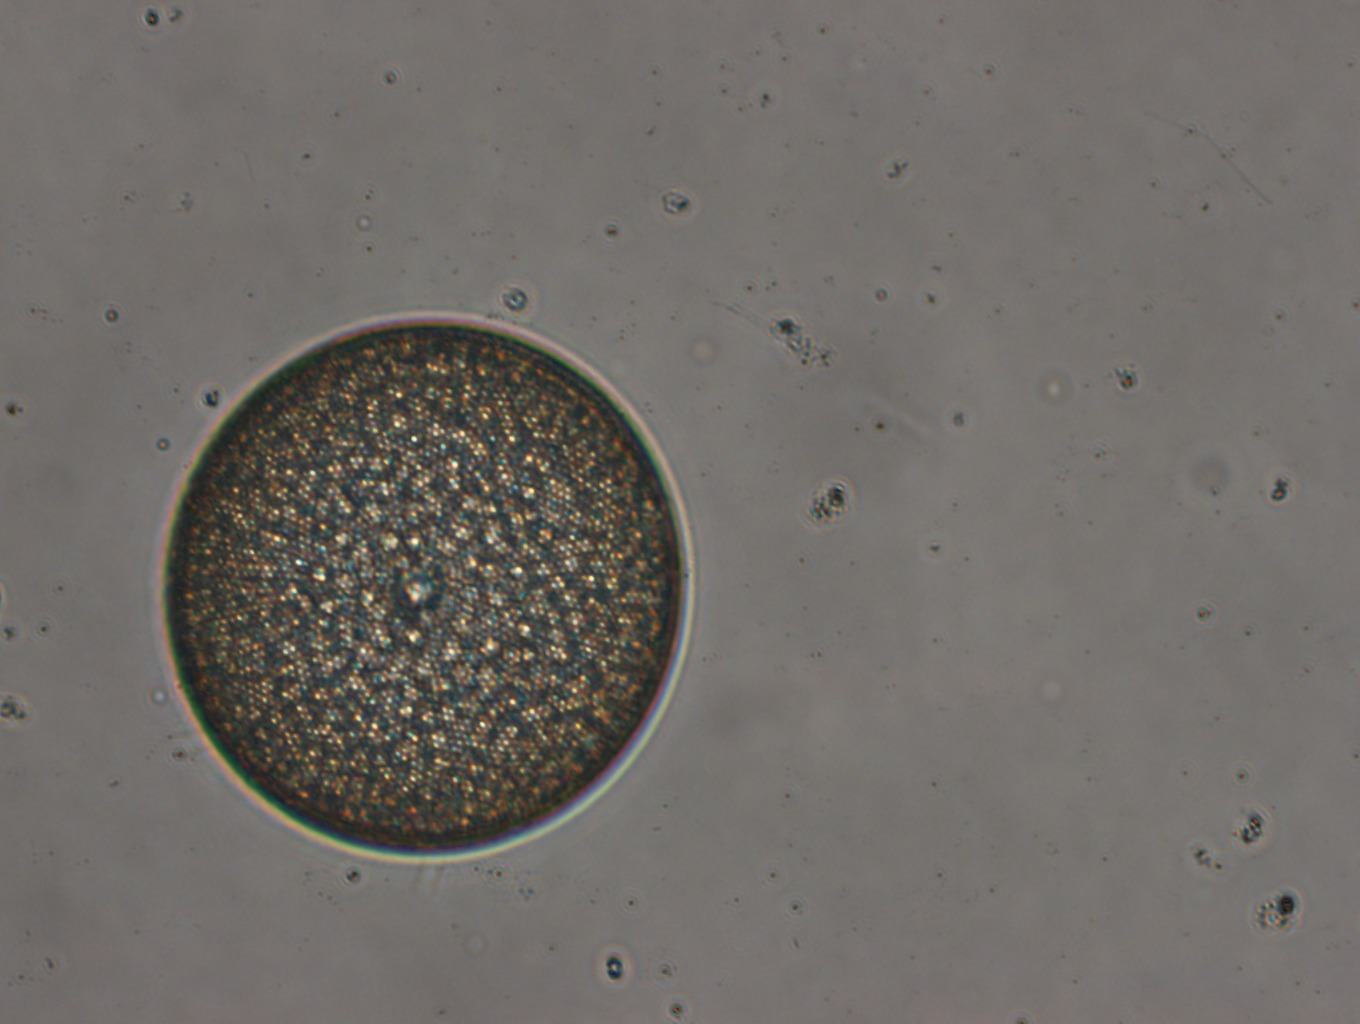coscinodiscus: (156, 308, 695, 865)
